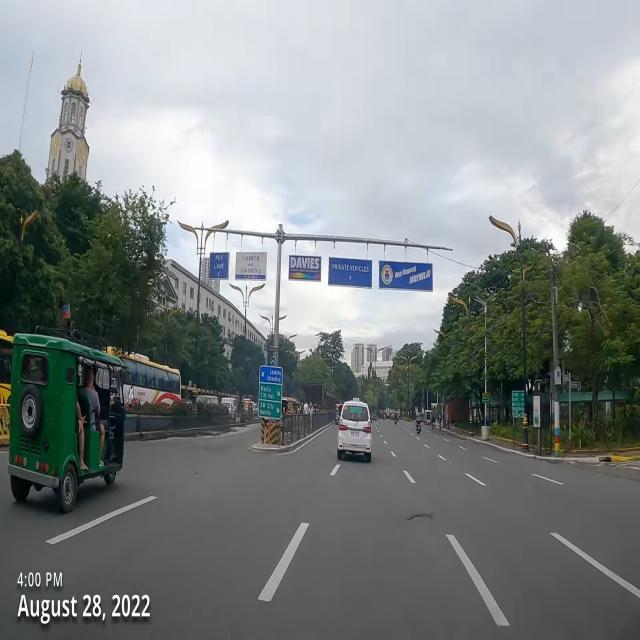bus: (107, 346, 181, 408), (0, 328, 15, 441)
car: (338, 404, 371, 462)
jeepney: (282, 396, 296, 414), (335, 404, 343, 424), (424, 410, 432, 425)
motorcycle: (416, 414, 422, 436), (394, 411, 398, 426), (383, 409, 386, 419), (397, 412, 399, 422)
tricycle: (8, 333, 125, 512)
